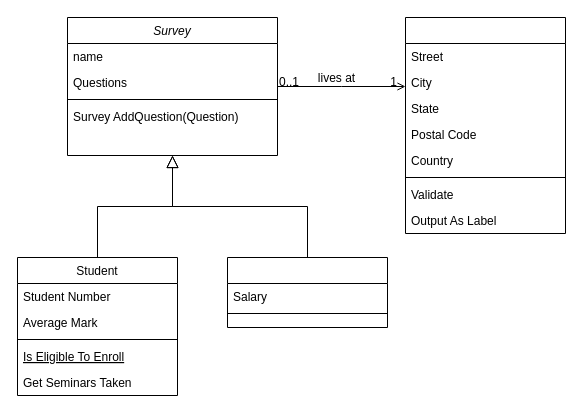
Image size: 583x416. Some labels were removed from this diagram. Each missing label, with the box of its shape:
Address: (404, 16, 566, 234)
Professor: (226, 256, 388, 328)
